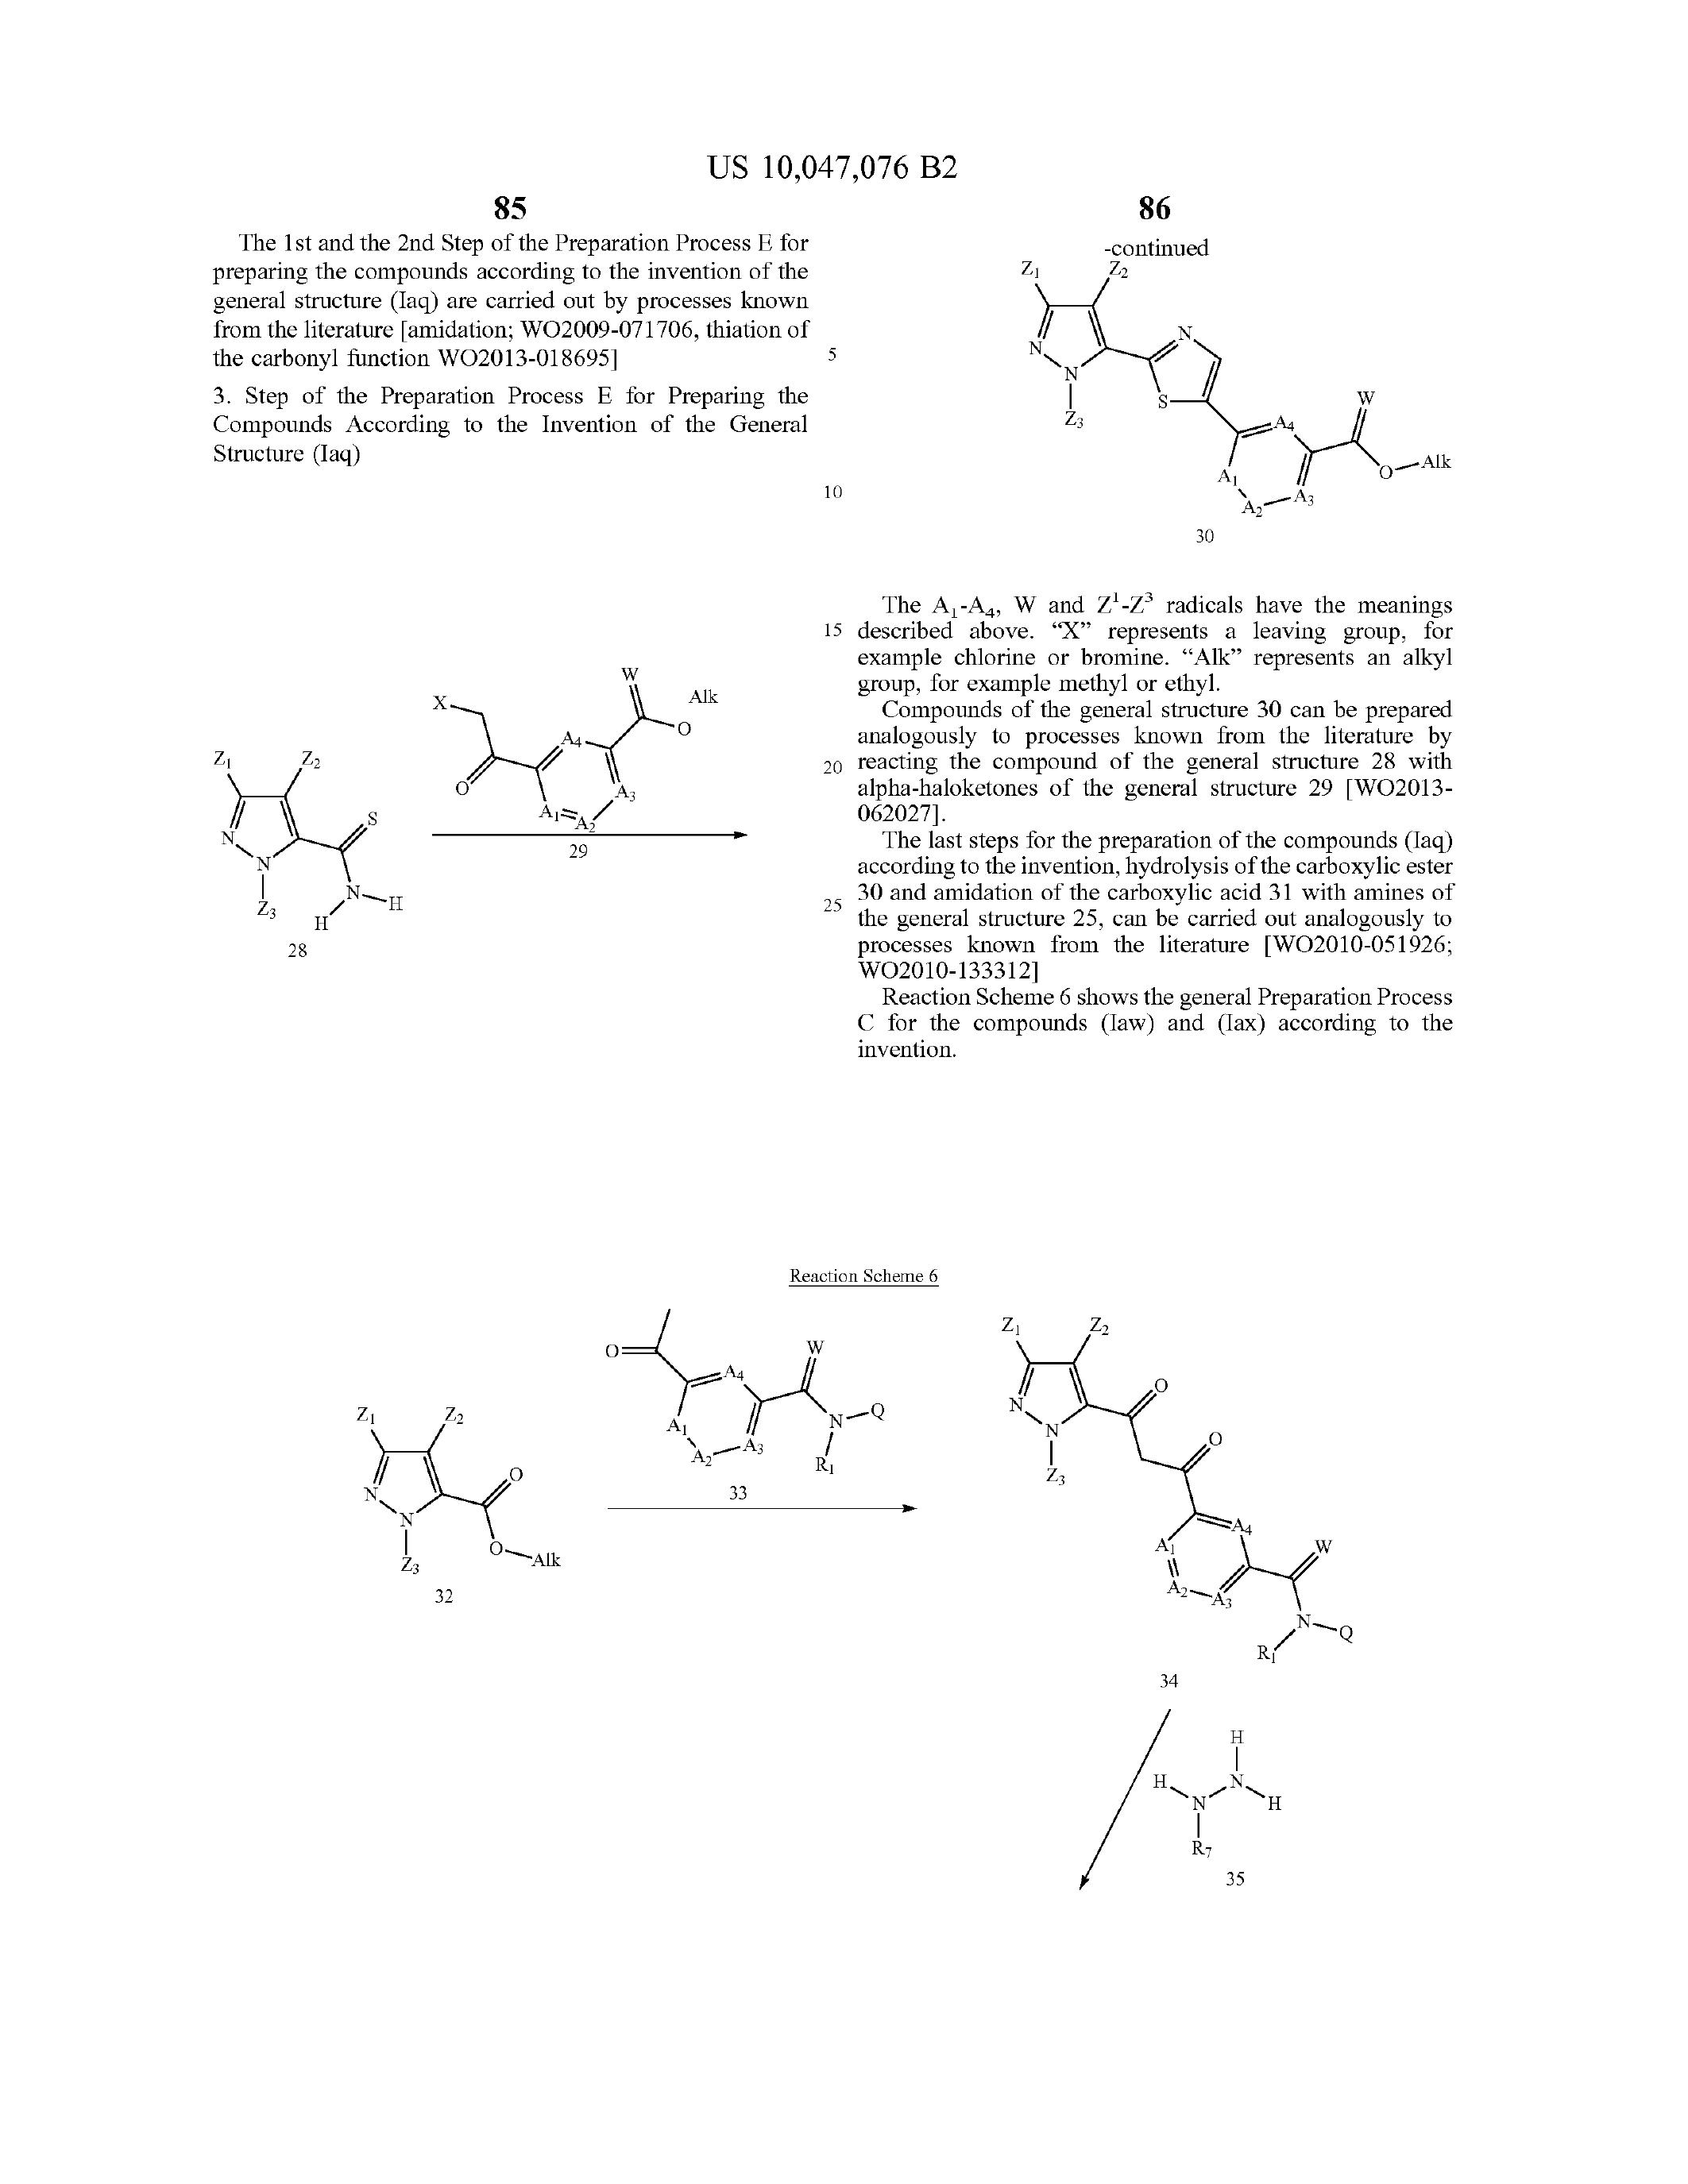intermediates: (968, 1282, 1431, 1677)
